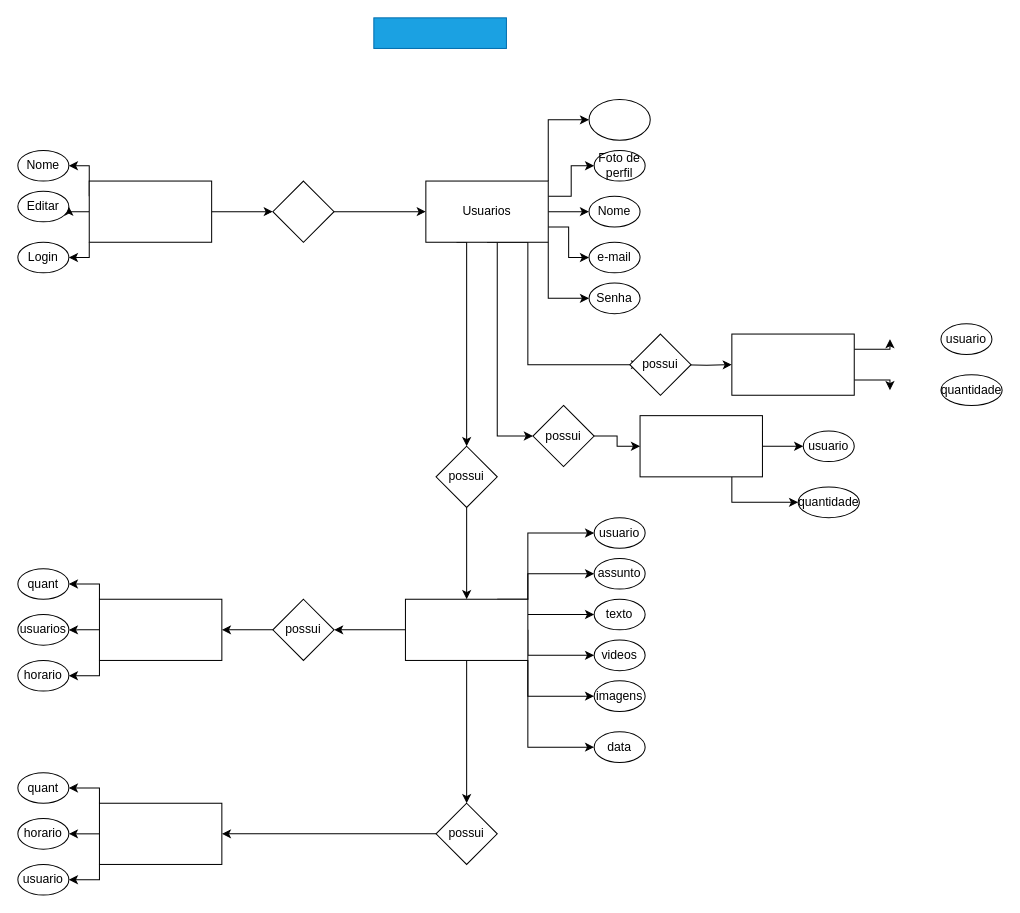
This 1020x913 diagram has some shape labels left out. The centre of each missing label's shape, as x and y in pixels:
"comentarios" belongs at point 160,833.
"contem" belongs at point 303,211.
"curtidas" belongs at point 160,629.
"DER - DevConnect" belongs at point 439,32.
"Nome de usuario" belongs at point 619,119.
"postagem" belongs at point 466,629.
"seguidores" belongs at point 792,364.
"seguindo" belongs at point 700,446.
"Site" belongs at point 150,211.
